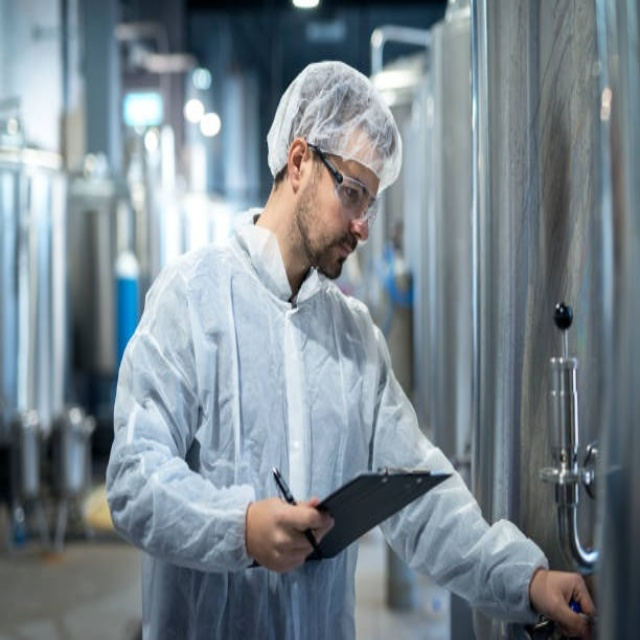Gafas: (309, 143, 380, 230)
Sin_guantes: (246, 493, 333, 575), (530, 565, 597, 639)
Sin_mascara: (316, 234, 369, 279)
